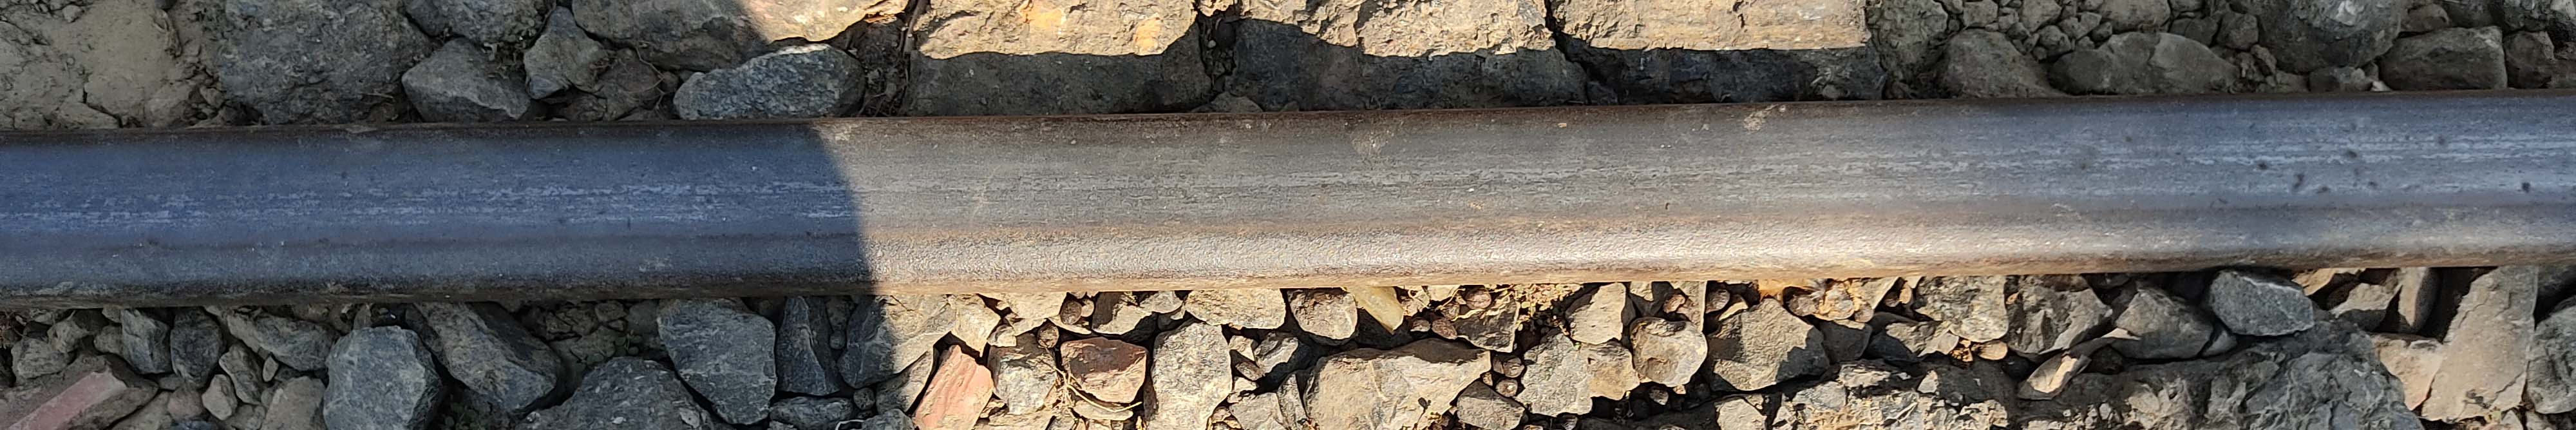error3: (2242, 142, 2390, 194)
